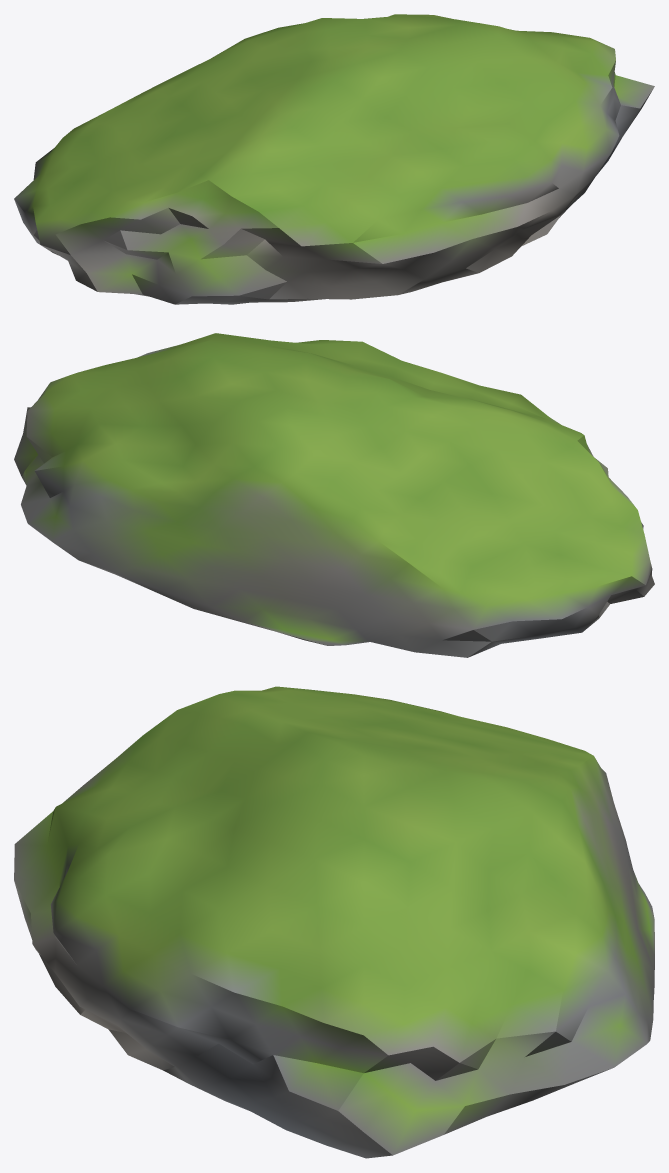
File: Rock_C.fbx
The picture shows the model from 3 angles, top to bottom: view 1: azimuth 30°, elevation 25°; view 2: azimuth 150°, elevation 25°; view 3: azimuth 270°, elevation 25°; orthographic projection. The views are drawn at different scales.
Parts seen in each view (by area): view 1: Rock_C; view 2: Rock_C; view 3: Rock_C.
Boxes of the visible parts, x1,y1,x2,y2 form: Rock_C: [14, 14, 654, 304]; Rock_C: [14, 333, 654, 657]; Rock_C: [14, 686, 654, 1158].
Bounding box in the file's own units: 4.15 × 1.11 × 2.69.
